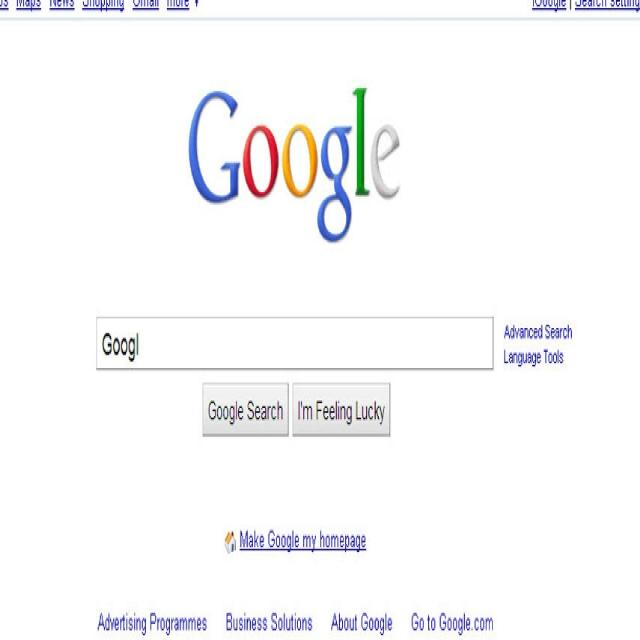google: (185, 69, 412, 256)
